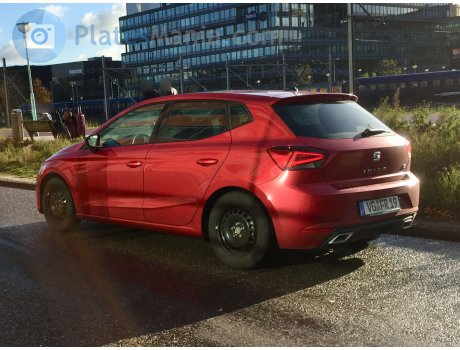License Plates: (363, 194, 405, 211)
